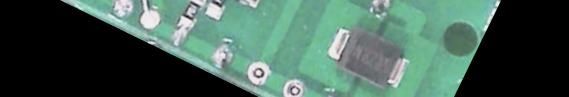chip-resistor: (173, 0, 209, 34)
diode: (319, 14, 417, 95)
